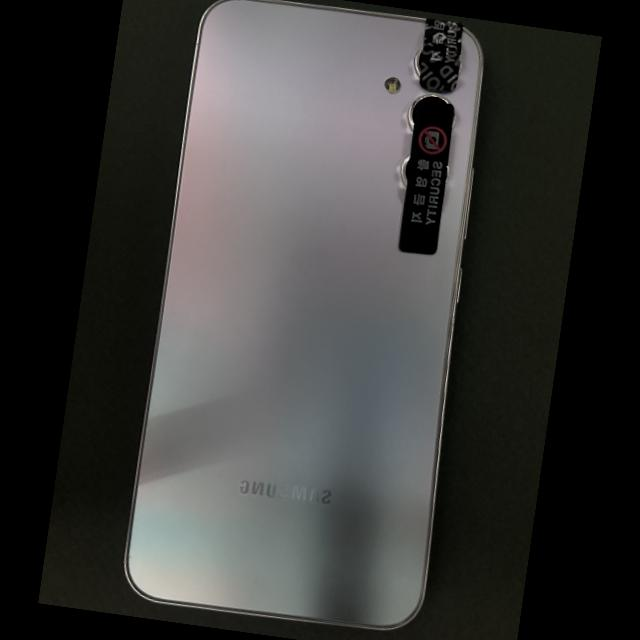lens: (407, 93, 455, 131), (401, 155, 409, 186), (414, 46, 421, 76)
phone: (124, 0, 481, 628)
sticker: (398, 100, 454, 255), (419, 17, 464, 92)
